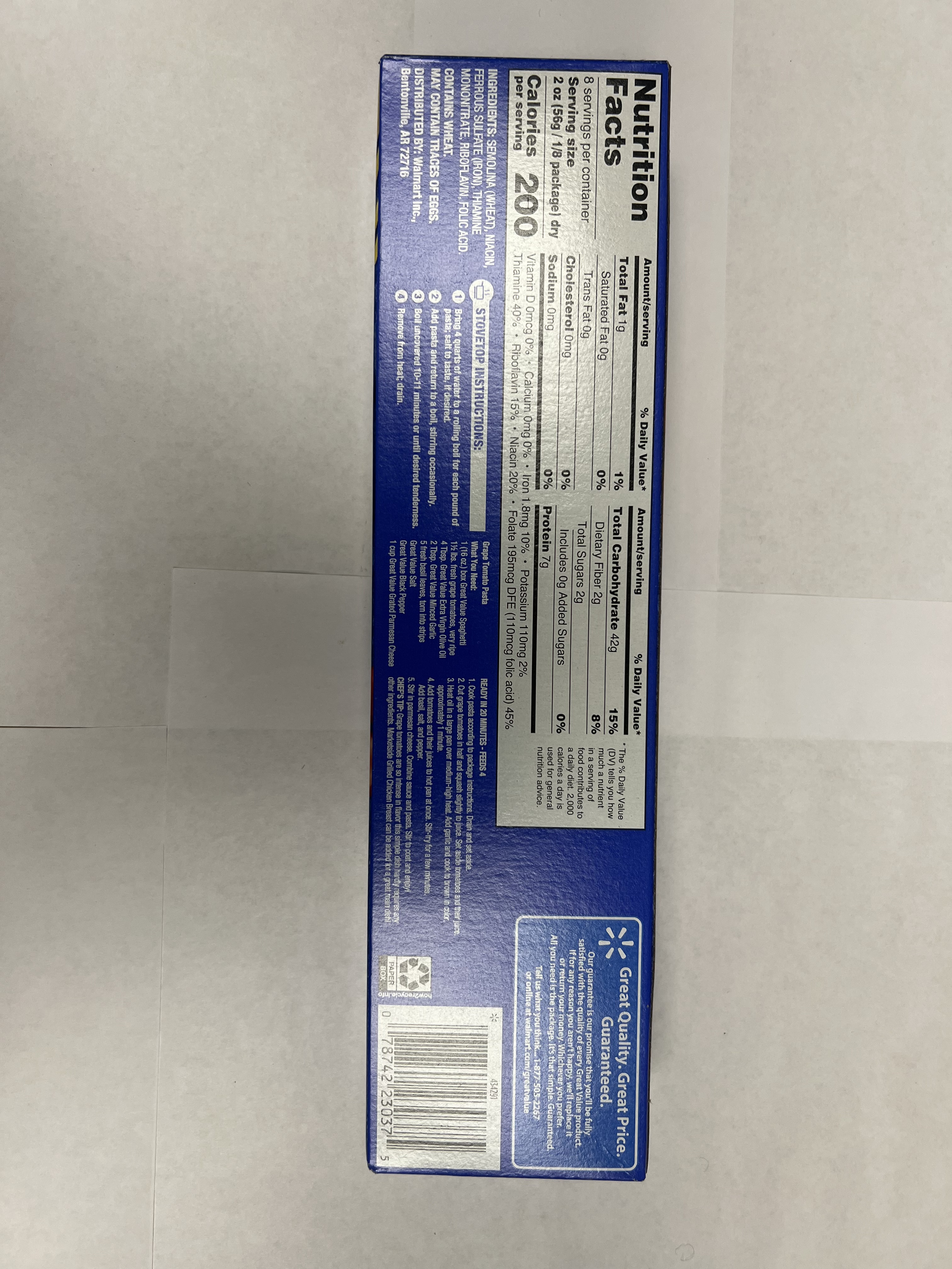packaged: (357, 51, 677, 1190)
